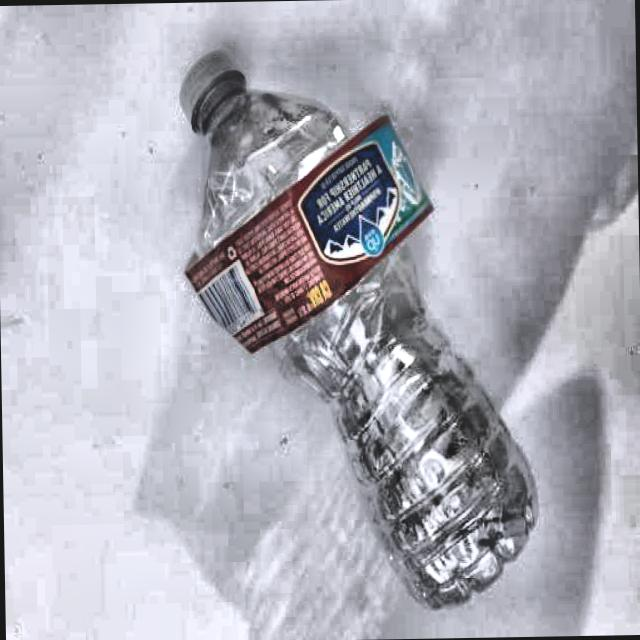plastic bottle: (180, 51, 536, 608)
